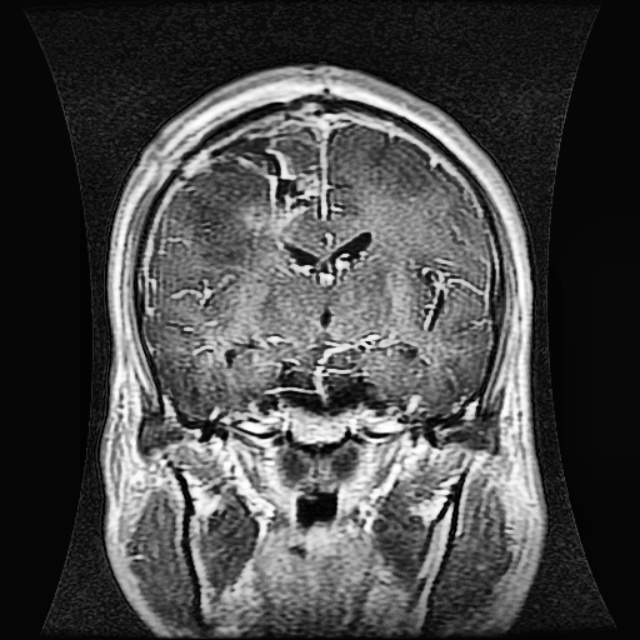Meningioma: (218, 114, 332, 220)
